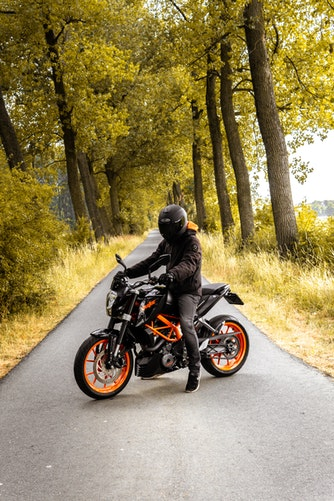helmet: (149, 202, 189, 234)
